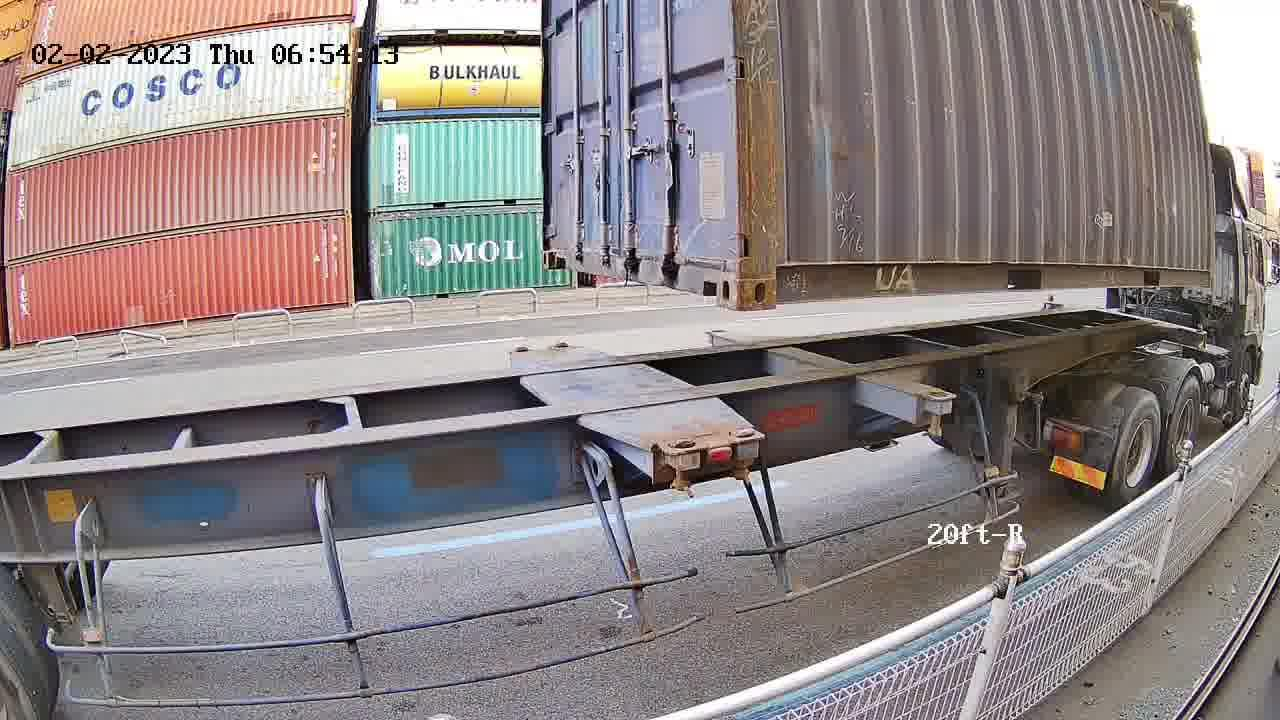Chassis: (546, 344, 762, 444), (510, 349, 702, 457)
Cone: (652, 435, 701, 500), (723, 425, 762, 486)
Hole_L: (739, 234, 810, 310), (540, 229, 573, 271)
Hole_R: (688, 234, 740, 311)
Tire: (1113, 393, 1161, 506), (1166, 379, 1201, 470)
